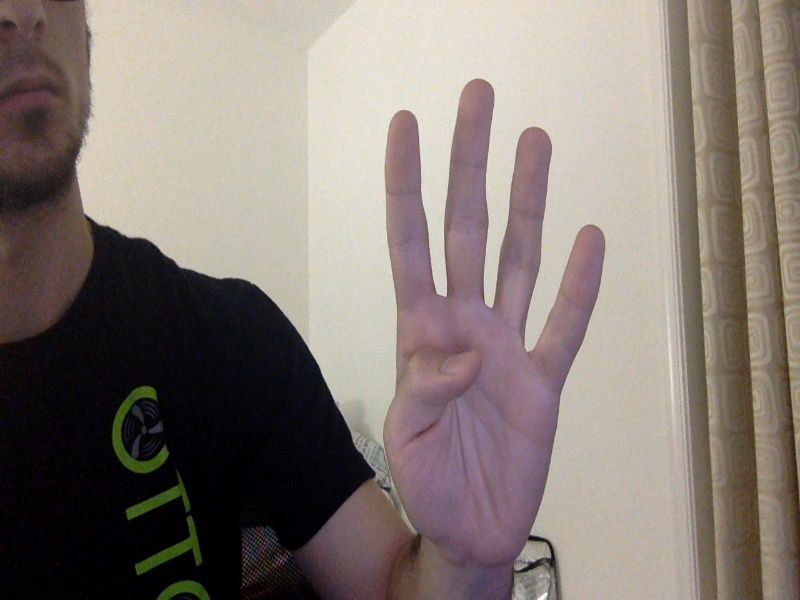4-hand: (384, 75, 606, 563)
